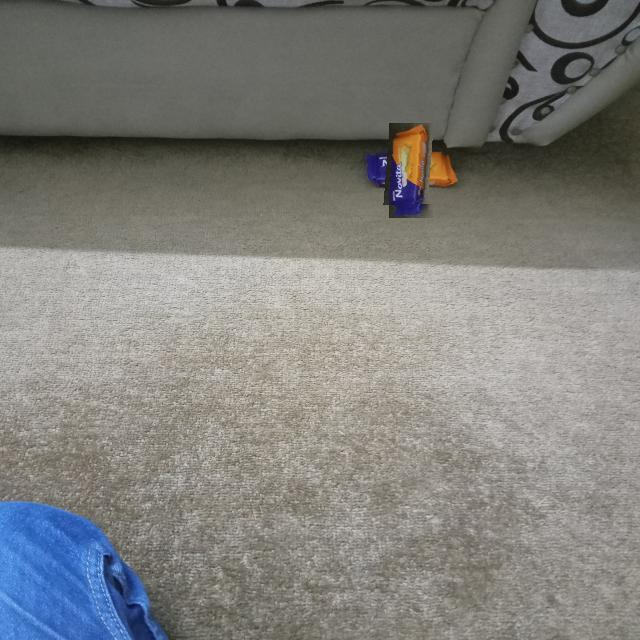Plastic: (376, 135, 446, 205)
